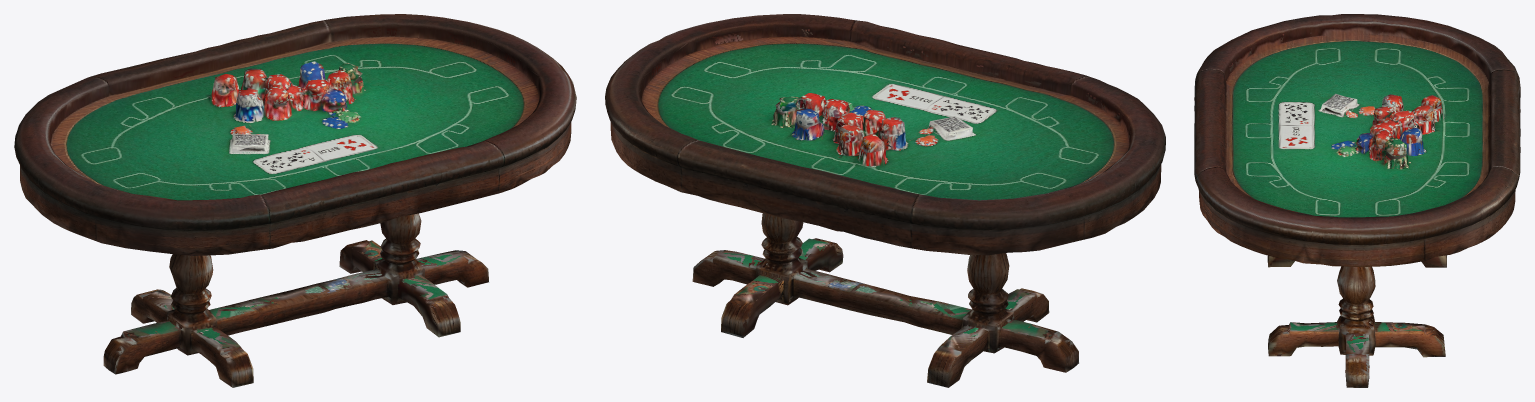
Rendered from casino_table.glb.
3 renders of one model, left to right at view 1: azimuth 30°, elevation 25°; view 2: azimuth 150°, elevation 25°; view 3: azimuth 270°, elevation 25°, orthographic. The views are drawn at different scales.
Parts seen in each view (by area): view 1: texture_mapping; view 2: texture_mapping; view 3: texture_mapping.
Boxes of the visible parts, <box> form: texture_mapping: <box>14,14,576,387</box>; texture_mapping: <box>605,14,1165,387</box>; texture_mapping: <box>1194,14,1520,387</box>.
Bounding box in the file's own units: 1 × 0.4254 × 0.6299.
Materials: 1 (1 with a texture image).
